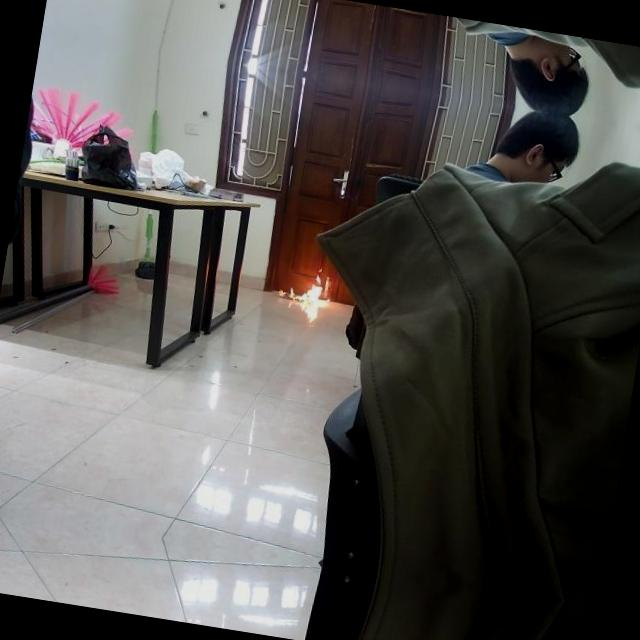fire: (272, 254, 348, 340)
